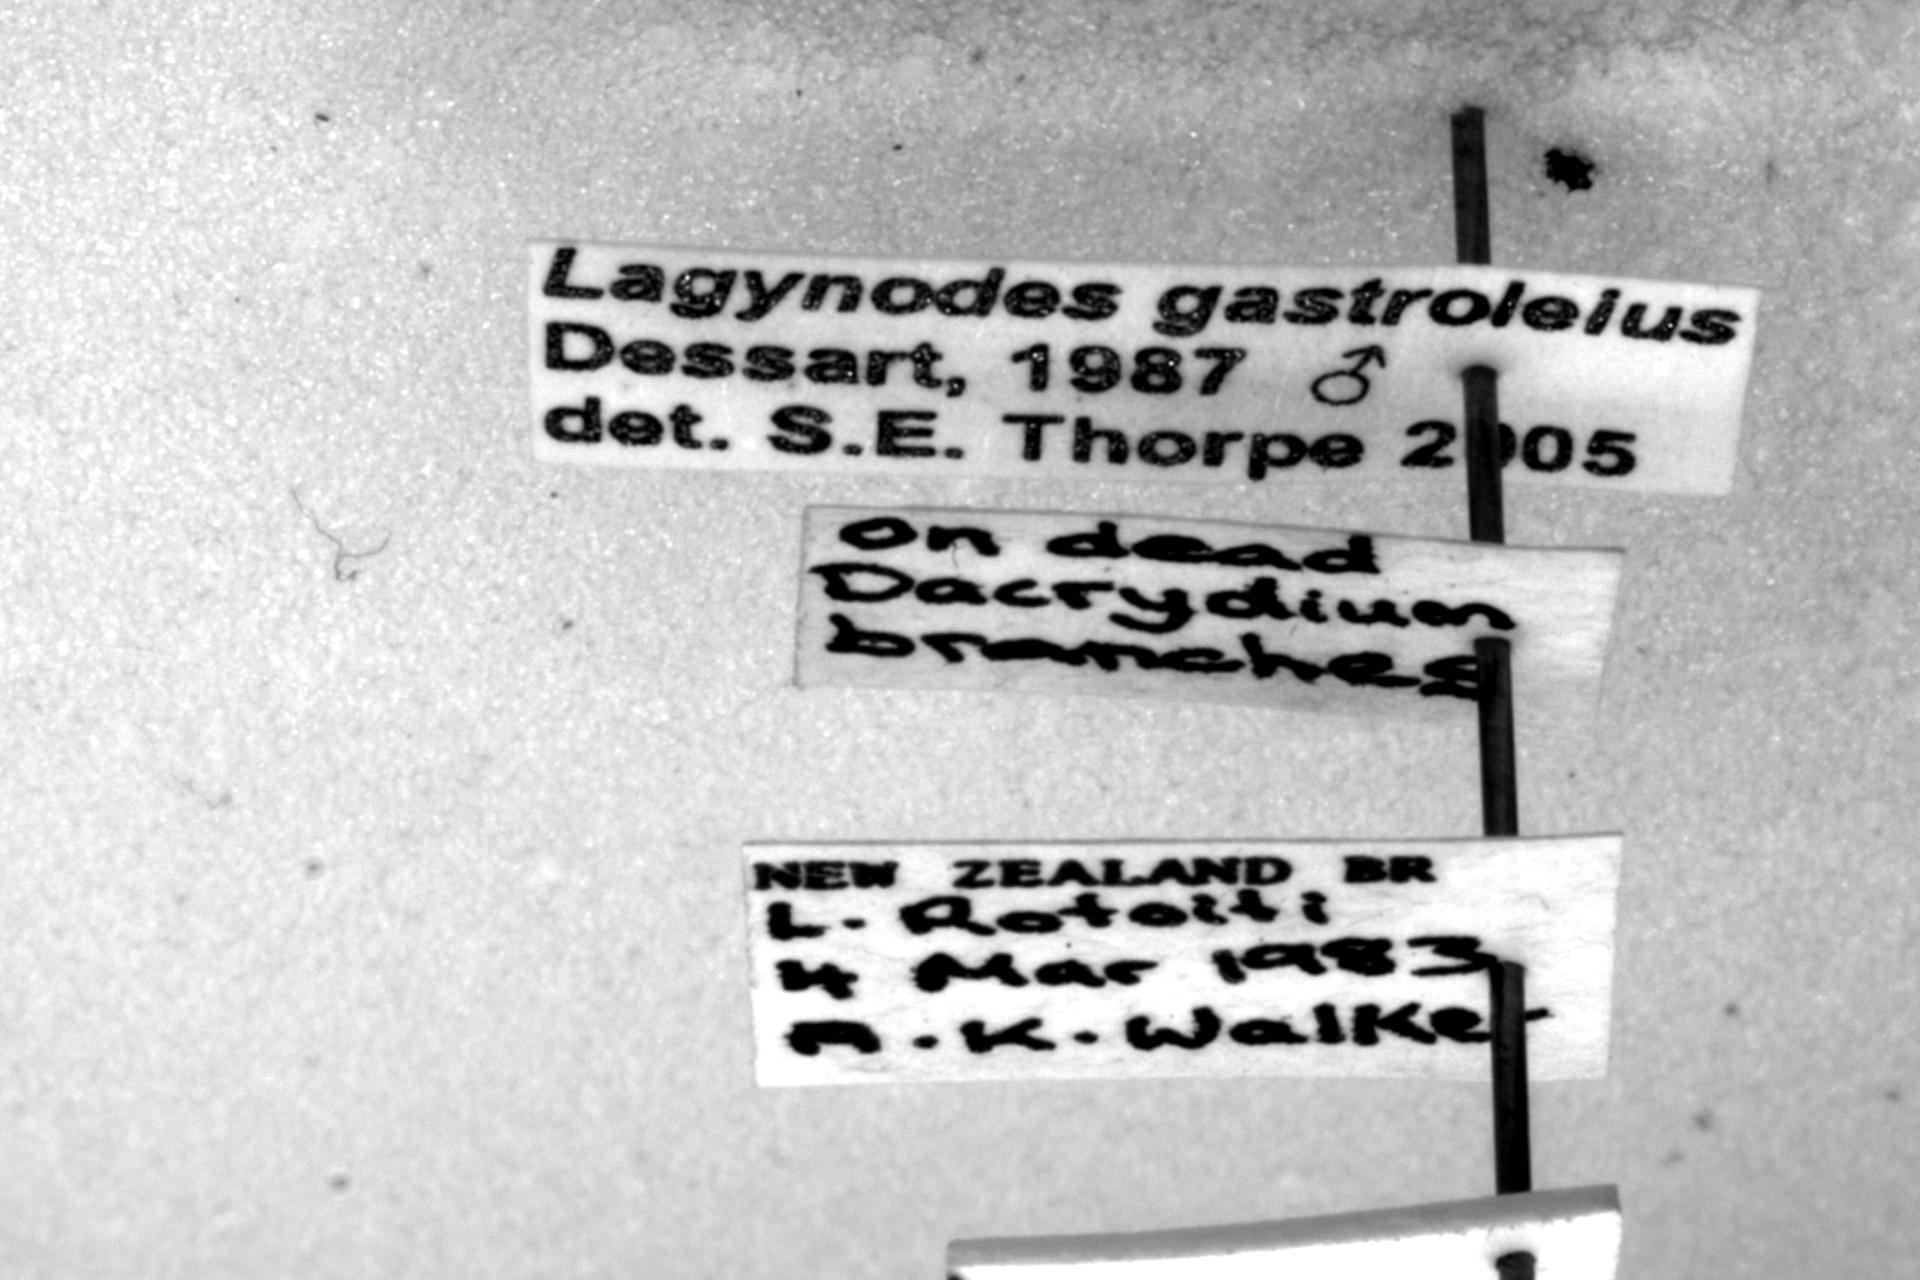hand_label: (794, 506, 1624, 739)
mixed_label: (741, 833, 1619, 1087)
typed_label: (529, 240, 1759, 494)
